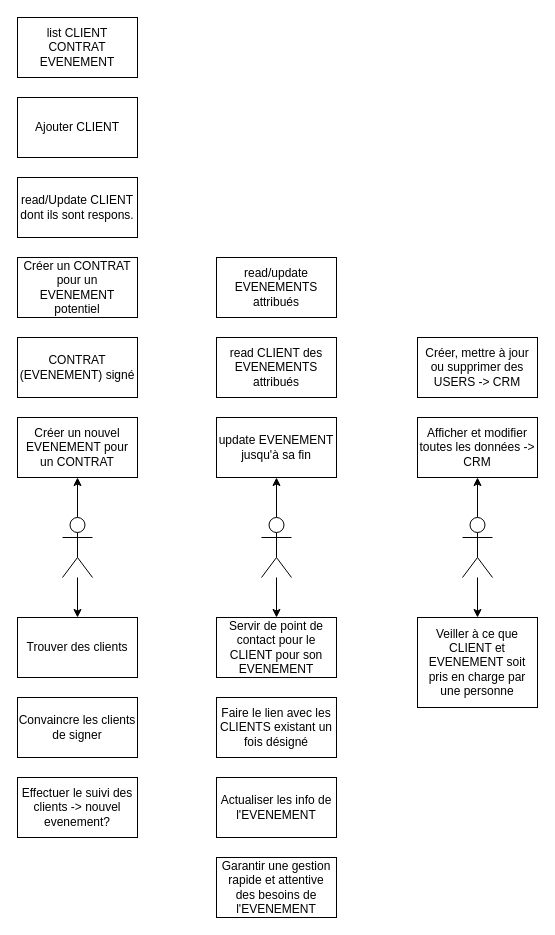
Some shapes in this 555 by 935 pixel diagram are drawn without their labels. The shapes that lost their labels are listed below. From the top down, each one's centre as x and y in pixels, then its label:
At (77,547): "Marketer".
At (276,547): "Support".
At (477,547): "Administrator".
